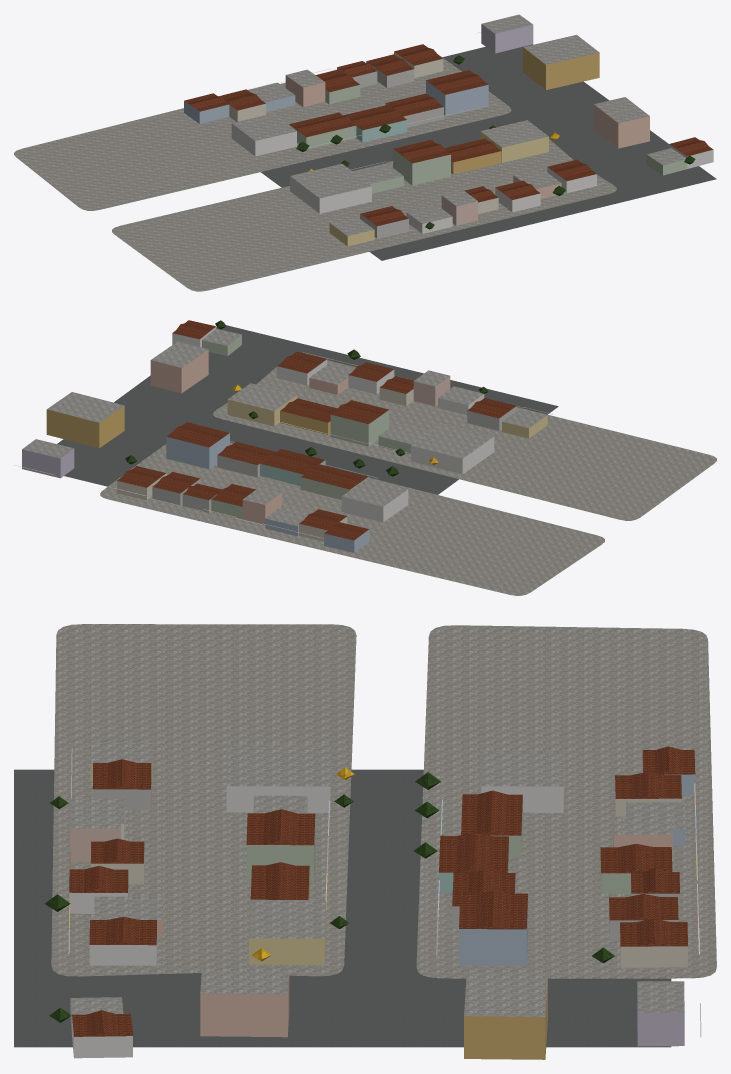
The model's file is cidade_S01_01_lod.gltf.
3 views of the same model, one above another, from view 1: azimuth 30°, elevation 25°; view 2: azimuth 150°, elevation 25°; view 3: azimuth 270°, elevation 25° (orthographic). The views are drawn at different scales.
Visible parts, largest first — view 1: S01_01_Chao_LOD2, S01_01_Edificios_LOD1, S01_01_Silhueta_LOD2, S01_01_Vegetacao_LOD2; view 2: S01_01_Chao_LOD2, S01_01_Edificios_LOD1, S01_01_Silhueta_LOD2, S01_01_Vegetacao_LOD2; view 3: S01_01_Chao_LOD2, S01_01_Edificios_LOD1, S01_01_Silhueta_LOD2, S01_01_Vegetacao_LOD2.
Boxes of the visible parts, box(x1,y1,x2,y2) form: S01_01_Chao_LOD2: box(14, 44, 716, 291); S01_01_Edificios_LOD1: box(184, 14, 713, 246); S01_01_Silhueta_LOD2: box(184, 44, 713, 237); S01_01_Vegetacao_LOD2: box(296, 55, 695, 229); S01_01_Chao_LOD2: box(57, 325, 716, 595); S01_01_Edificios_LOD1: box(14, 323, 552, 552); S01_01_Silhueta_LOD2: box(117, 320, 516, 552); S01_01_Vegetacao_LOD2: box(125, 320, 488, 476); S01_01_Chao_LOD2: box(14, 624, 716, 1047); S01_01_Edificios_LOD1: box(68, 742, 701, 1059); S01_01_Silhueta_LOD2: box(69, 750, 695, 1058); S01_01_Vegetacao_LOD2: box(44, 767, 614, 1022).
Bounding box in the file's own units: 157 × 7.37 × 107.
19 materials, 19 textured.
